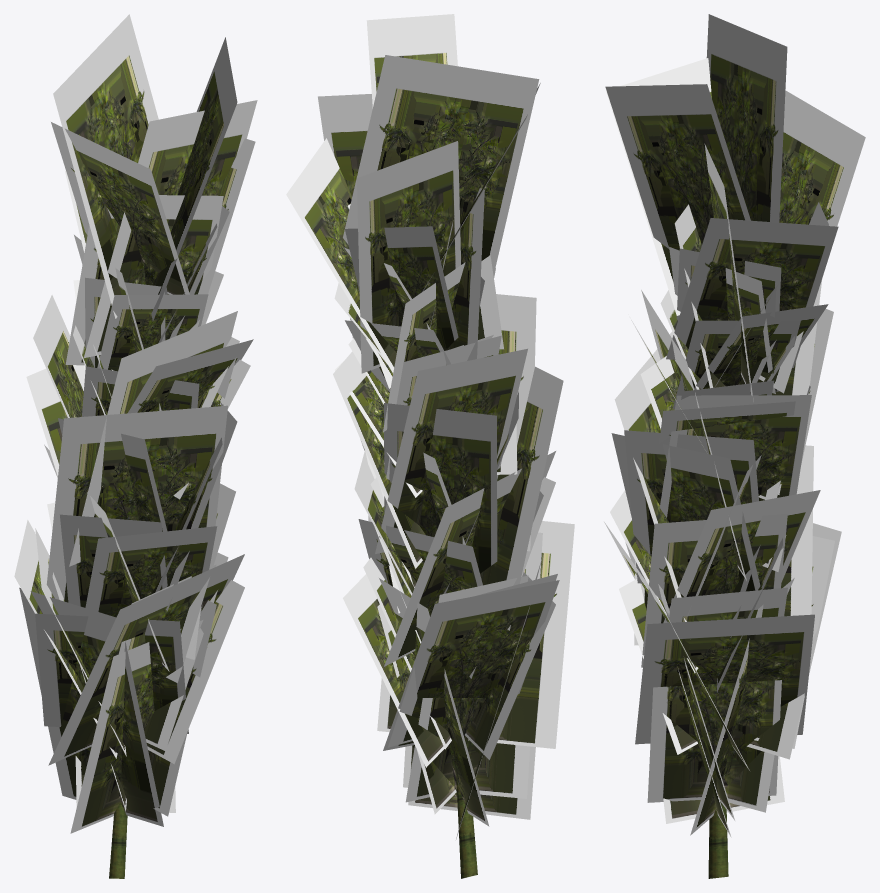
Rendered from Bamboo.dae.
3 views of the same model, side by side, from view 1: azimuth 30°, elevation 25°; view 2: azimuth 150°, elevation 25°; view 3: azimuth 270°, elevation 25° (orthographic). The views are drawn at different scales.
Parts seen in each view (by area): view 1: group_1 (×33), group_0; view 2: group_1 (×35), group_0; view 3: group_1 (×41), group_0.
Boxes of the visible parts, box(x1,y1,x2,y2) form: group_1 (×33): box(14, 14, 257, 833); group_0: box(109, 802, 127, 878); group_1 (×35): box(286, 14, 574, 826); group_0: box(456, 780, 477, 878); group_1 (×41): box(604, 14, 865, 837); group_0: box(708, 801, 728, 878).
Bounding box in the file's own units: 87.93 × 80.15 × 288.
Materials: 3 (2 with a texture image).
